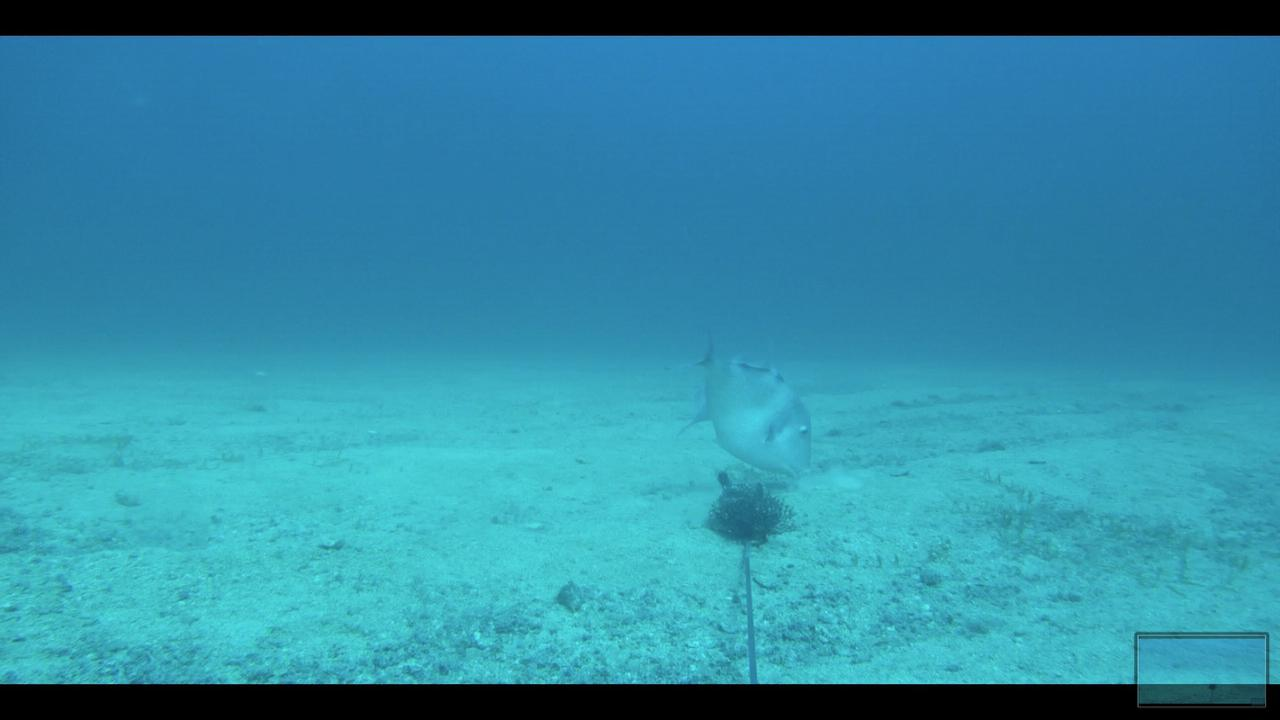balistes: (677, 336, 823, 483)
